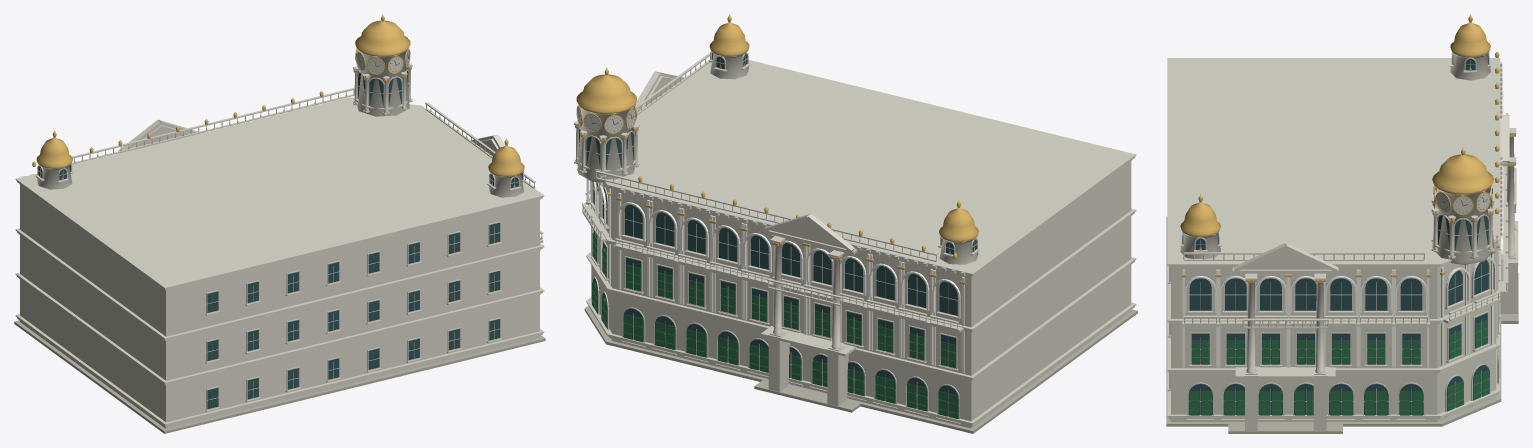
Rendered from MET_metropolitan_building_Roblox.fbx.
The picture shows the model from 3 angles, left to right: view 1: azimuth 30°, elevation 25°; view 2: azimuth 150°, elevation 25°; view 3: azimuth 270°, elevation 25°; orthographic projection. The views are drawn at different scales.
Visible parts, largest first — view 1: MET_ClippedCornerCornices__Ivory_RBX, MET_ClippedCornerEnvelope__Ivory_RBX, MET_Foundation__Stone_RBX, MET_StreetRoofBalustrade__Ivory_RBX, MET_TowerBody_0__Ivory_RBX, MET_GoldCupola_0__Gold_RBX, MET_FrontPediment__Ivory_RBX, MET_GoldCupola_2__Gold_RBX, MET_GoldCupola_1__Gold_RBX, MET_RearWindow_5__Glass_RBX, MET_RearWindow_0__Glass_RBX, MET_RearWindow_1__Glass_RBX (+18 smaller); view 2: MET_ClippedCornerCornices__Ivory_RBX, MET_ClippedCornerEnvelope__Ivory_RBX, MET_FrontPediment__Ivory_RBX, MET_Foundation__Stone_RBX, MET_StreetRoofBalustrade__Ivory_RBX, MET_TowerBody_0__Ivory_RBX, MET_GoldCupola_0__Gold_RBX, MET_ChowringheeBay_1__Ivory_RBX, MET_ChowringheeBay_7__Ivory_RBX, MET_ChowringheeBay_9__Ivory_RBX, MET_ChowringheeBay_10__Ivory_RBX, MET_FrontPorticoFooting__Stone_RBX (+48 smaller); view 3: MET_ClippedCornerCornices__Ivory_RBX, MET_ClippedCornerEnvelope__Ivory_RBX, MET_SidePediment__Ivory_RBX, MET_FrontPediment__Ivory_RBX, MET_TowerBody_0__Ivory_RBX, MET_Foundation__Stone_RBX, MET_GoldCupola_0__Gold_RBX, MET_ReturnBay_6__Glass_RBX, MET_ReturnBay_0__Glass_RBX, MET_ReturnBay_2__Glass_RBX, MET_ReturnBay_1__Glass_RBX, MET_ReturnBay_4__Glass_RBX (+43 smaller).
Boxes of the visible parts, x1,y1,x2,y2 form: MET_ClippedCornerCornices__Ivory_RBX: (15,97,544,427); MET_ClippedCornerEnvelope__Ivory_RBX: (20,185,539,428); MET_Foundation__Stone_RBX: (14,320,545,433); MET_StreetRoofBalustrade__Ivory_RBX: (22,87,354,176); MET_TowerBody_0__Ivory_RBX: (357,47,409,116); MET_GoldCupola_0__Gold_RBX: (355,14,410,56); MET_FrontPediment__Ivory_RBX: (118,119,200,152); MET_GoldCupola_2__Gold_RBX: (488,138,524,176); MET_GoldCupola_1__Gold_RBX: (36,130,72,168); MET_RearWindow_5__Glass_RBX: (408,242,419,359); MET_RearWindow_0__Glass_RBX: (207,291,218,409); MET_RearWindow_1__Glass_RBX: (247,281,258,399); MET_ClippedCornerCornices__Ivory_RBX: (586,60,1136,426); MET_ClippedCornerEnvelope__Ivory_RBX: (591,161,1131,428); MET_FrontPediment__Ivory_RBX: (760,214,857,406); MET_Foundation__Stone_RBX: (584,305,1137,433); MET_StreetRoofBalustrade__Ivory_RBX: (595,170,965,276); MET_TowerBody_0__Ivory_RBX: (577,104,634,182); MET_GoldCupola_0__Gold_RBX: (576,67,636,113); MET_ChowringheeBay_1__Ivory_RBX: (897,273,931,416); MET_ChowringheeBay_7__Ivory_RBX: (708,226,742,370); MET_ChowringheeBay_9__Ivory_RBX: (645,211,679,355); MET_ChowringheeBay_10__Ivory_RBX: (613,204,646,347); MET_FrontPorticoFooting__Stone_RBX: (754,378,862,412); MET_ClippedCornerCornices__Ivory_RBX: (1167,58,1500,420); MET_ClippedCornerEnvelope__Ivory_RBX: (1171,244,1496,421); MET_SidePediment__Ivory_RBX: (1232,243,1338,430); MET_FrontPediment__Ivory_RBX: (1500,115,1518,313); MET_TowerBody_0__Ivory_RBX: (1432,181,1494,264); MET_Foundation__Stone_RBX: (1166,216,1501,426); MET_GoldCupola_0__Gold_RBX: (1432,147,1493,194); MET_ReturnBay_6__Glass_RBX: (1188,278,1212,414); MET_ReturnBay_0__Glass_RBX: (1399,278,1423,414); MET_ReturnBay_2__Glass_RBX: (1329,278,1353,414); MET_ReturnBay_1__Glass_RBX: (1364,278,1388,414); MET_ReturnBay_4__Glass_RBX: (1258,278,1282,414).
Size of the model in its own units: 137 by 78.65 by 95.3.
